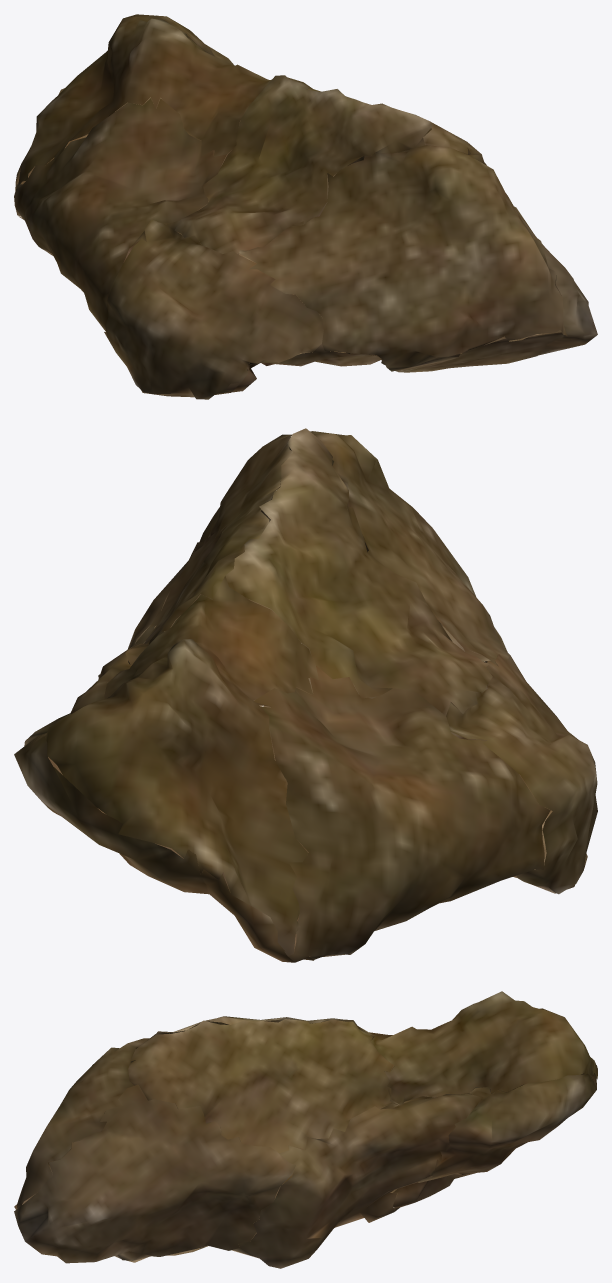
Rendered from rock_moss_set_01_a.gltf.lod.glb.
The picture shows the model from 3 angles, top to bottom: view 1: azimuth 30°, elevation 25°; view 2: azimuth 150°, elevation 25°; view 3: azimuth 270°, elevation 25°; orthographic projection. The views are drawn at different scales.
Visible parts, largest first — view 1: rock_moss_set_01_rock01; view 2: rock_moss_set_01_rock01; view 3: rock_moss_set_01_rock01.
Part boxes in pixels (bbox=[...]): rock_moss_set_01_rock01: bbox=[14, 14, 597, 399]; rock_moss_set_01_rock01: bbox=[14, 428, 597, 962]; rock_moss_set_01_rock01: bbox=[14, 991, 597, 1268].
Size of the model in its own units: 2.24 by 1.47 by 3.38.
Materials: 1 (1 with a texture image).
